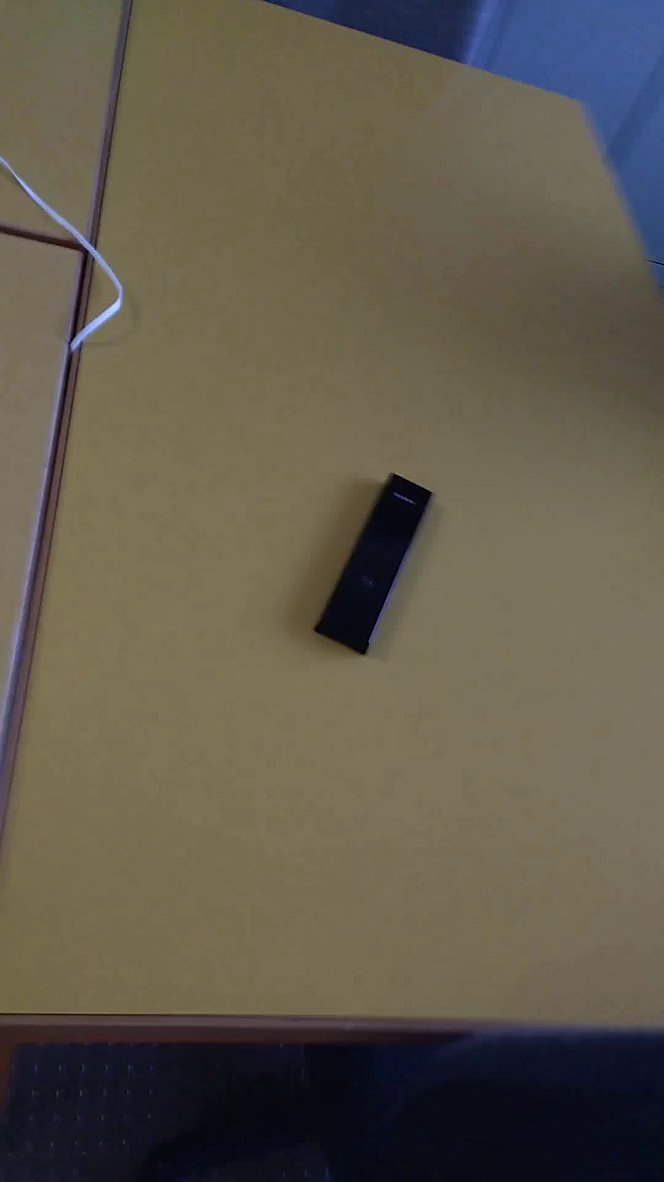remote: (296, 450, 446, 669)
